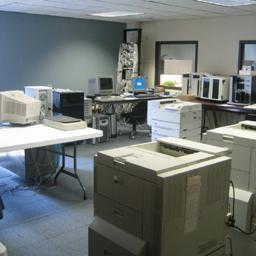Ventana: (161, 43, 195, 90)
